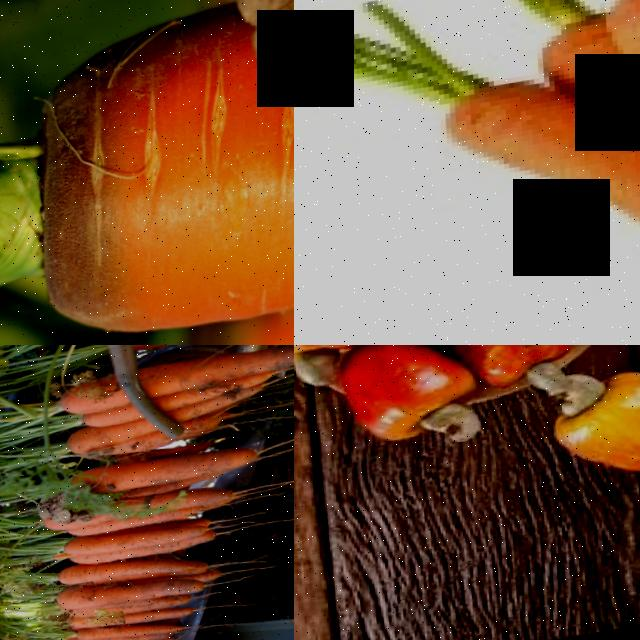carrot: (0, 9, 294, 345), (396, 46, 581, 251), (69, 451, 262, 501), (139, 345, 294, 402), (35, 568, 216, 616), (57, 487, 232, 533), (71, 514, 239, 560), (58, 549, 213, 590), (69, 602, 204, 636), (51, 426, 161, 455), (52, 375, 129, 416), (75, 618, 182, 640), (82, 409, 151, 430)
cashew: (476, 345, 580, 400), (527, 374, 620, 424), (430, 395, 492, 466), (294, 353, 354, 392)
